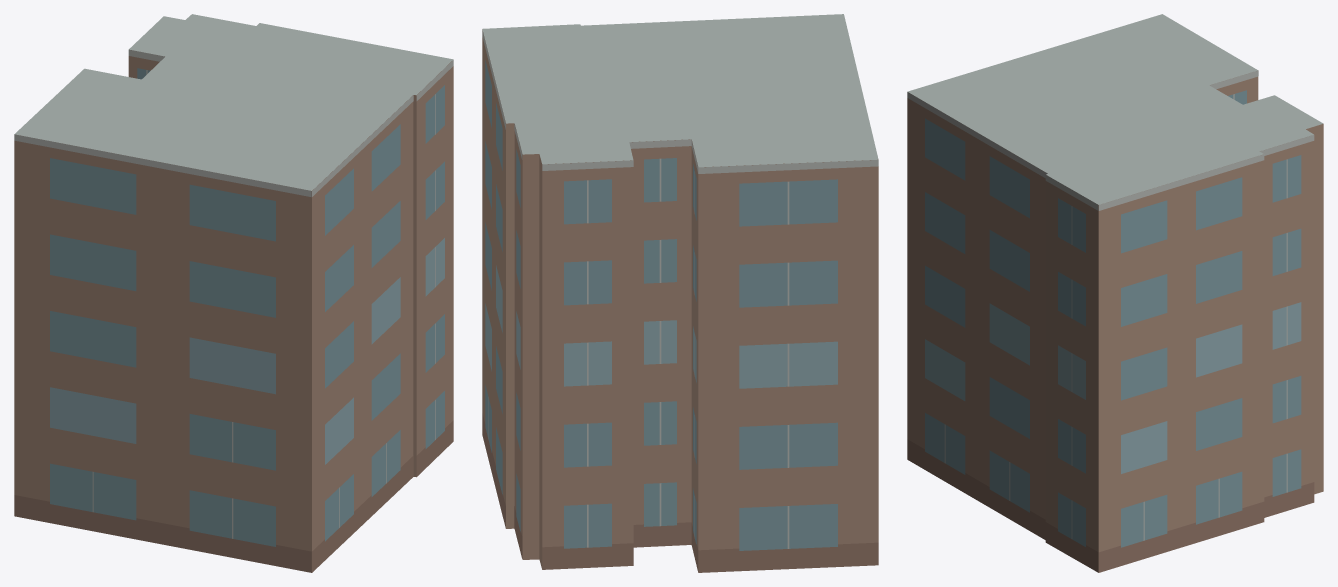
Rendered from survey-upis-32685644.glb.
3 views of the same model, side by side, from view 1: azimuth 30°, elevation 25°; view 2: azimuth 150°, elevation 25°; view 3: azimuth 270°, elevation 25° (orthographic). The views are drawn at different scales.
Visible parts, largest first — view 1: survey-upis-32685644.tmp; view 2: survey-upis-32685644.tmp; view 3: survey-upis-32685644.tmp.
Part boxes in pixels (box(x1,y1,x2,y2)): survey-upis-32685644.tmp: box(14, 14, 453, 572); survey-upis-32685644.tmp: box(482, 14, 878, 572); survey-upis-32685644.tmp: box(907, 14, 1323, 572).
Bounding box in the file's own units: 16.37 × 14.7 × 15.09.
